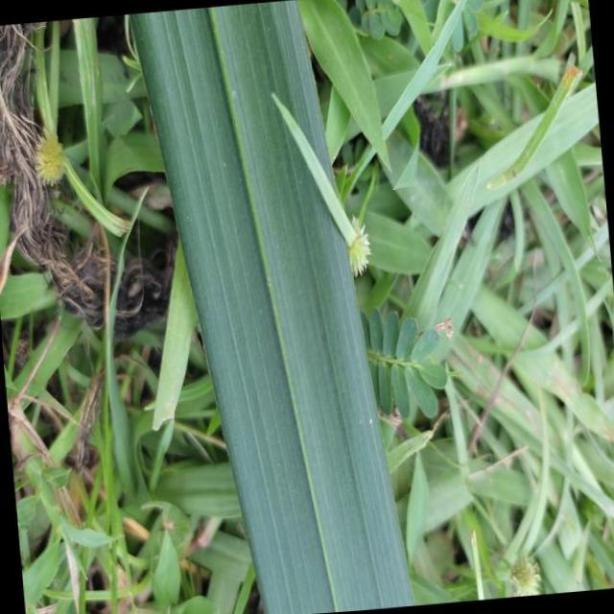Healthy: (132, 7, 420, 610)
